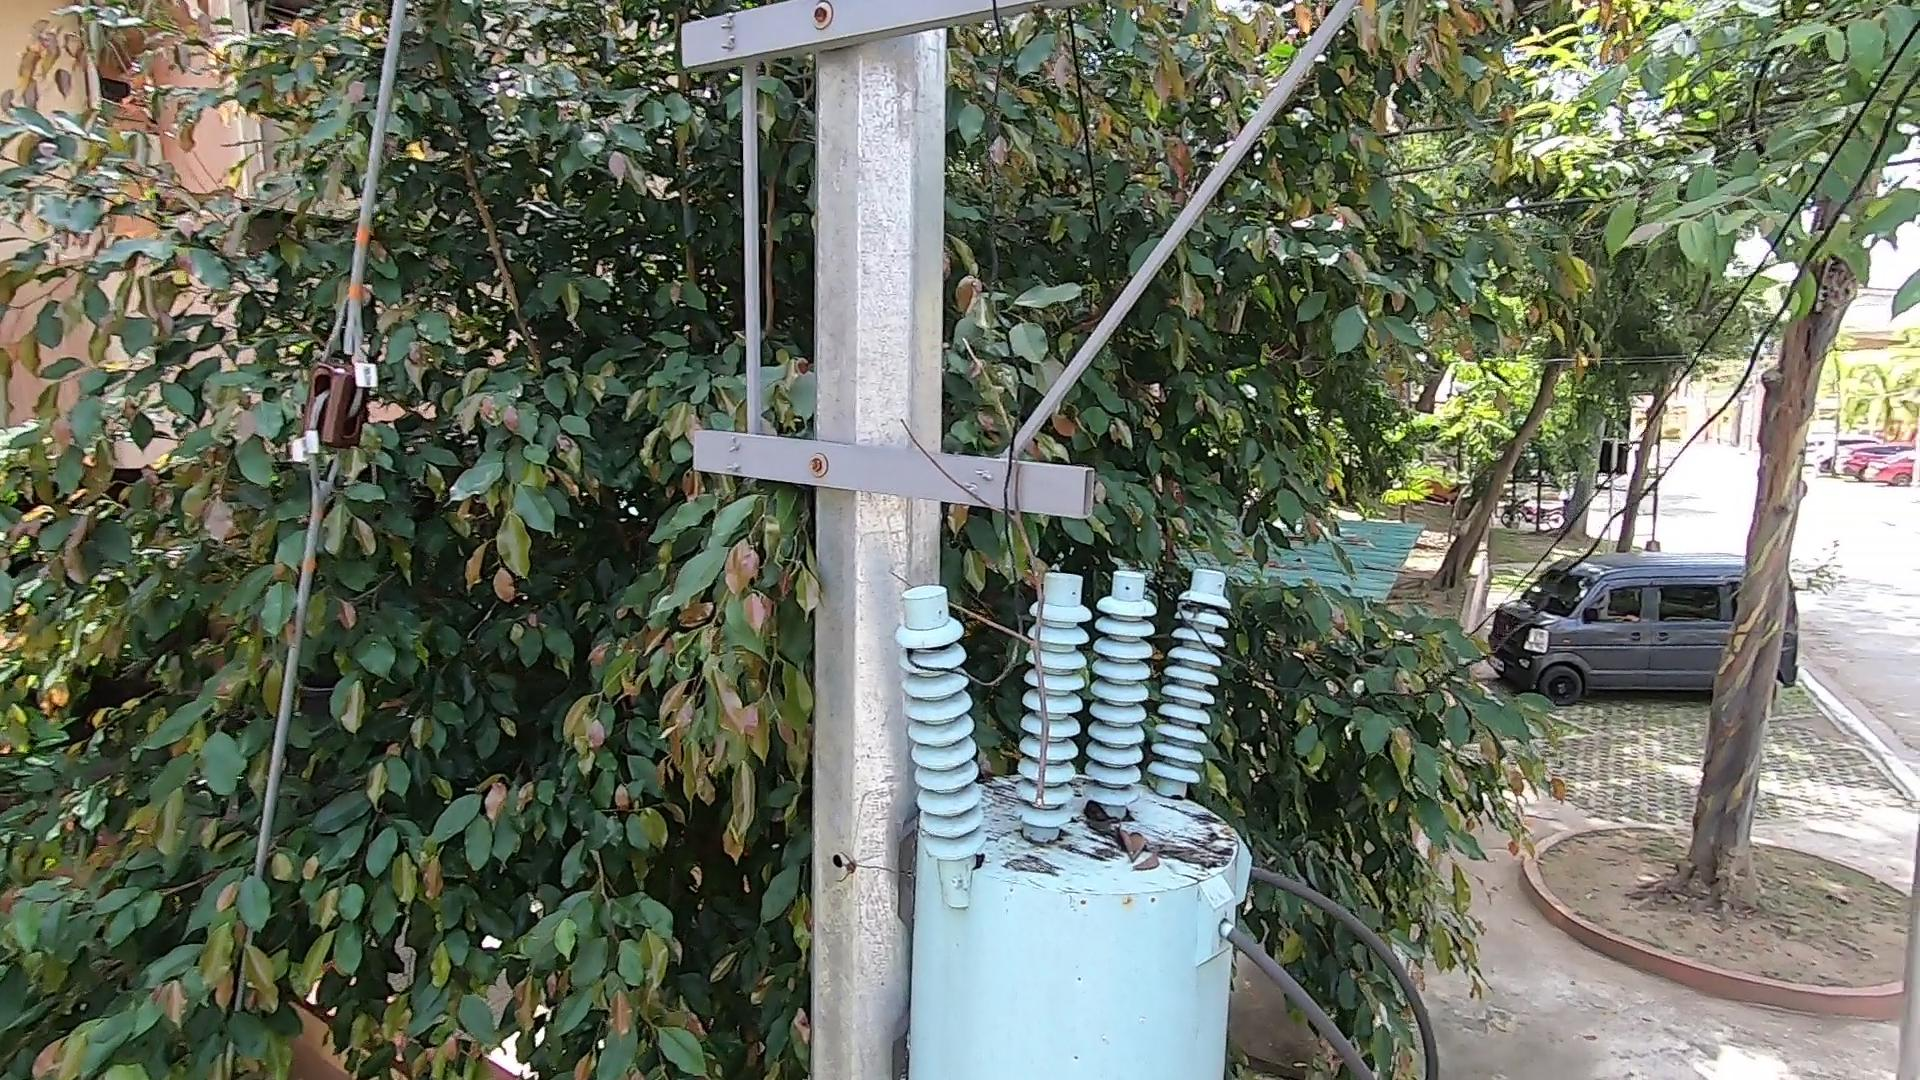leaf: (1085, 794, 1168, 873)
tree branch: (902, 310, 1083, 812)
